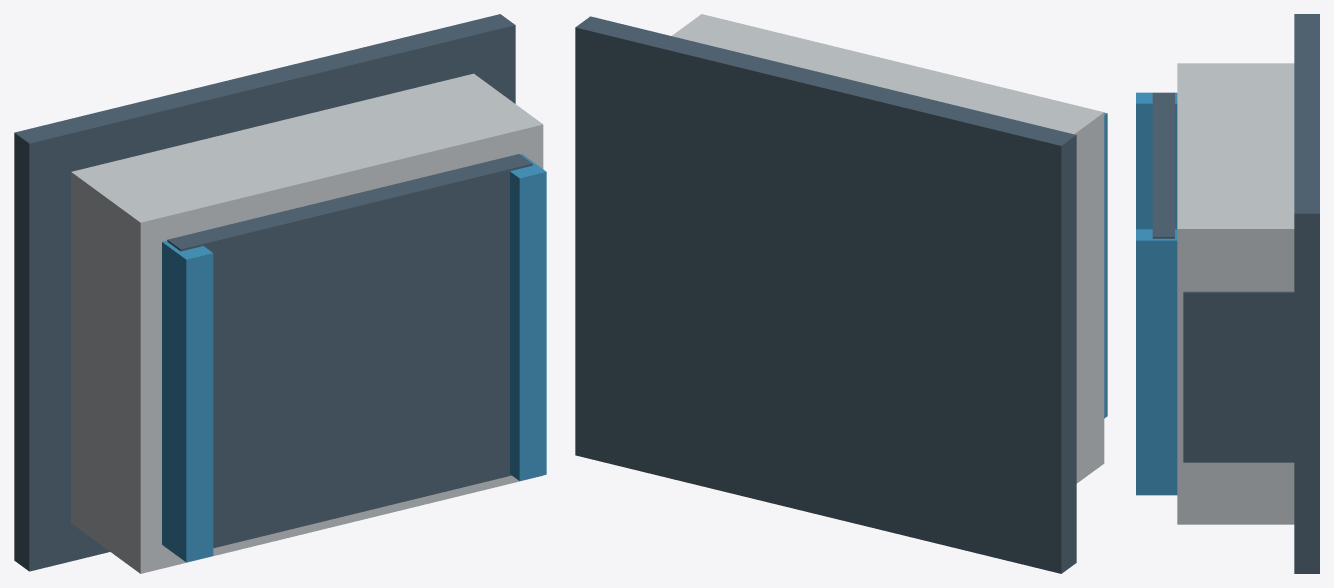
Rendered from b_war_factory.glb.
3 views of the same model, side by side, from view 1: azimuth 30°, elevation 25°; view 2: azimuth 150°, elevation 25°; view 3: azimuth 270°, elevation 25° (orthographic). The views are drawn at different scales.
Parts seen in each view (by area): view 1: roof, main_structure, foundation, support_-2.16, support_2.16; view 2: foundation, main_structure, support_-2.16; view 3: main_structure, factory_door, foundation, support_2.16, roof, support_-2.16.
Boxes of the visible parts, bbox=[...] form: roof: bbox=[167, 154, 532, 548]; main_structure: bbox=[71, 73, 543, 573]; foundation: bbox=[14, 14, 515, 571]; support_-2.16: bbox=[162, 240, 213, 562]; support_2.16: bbox=[510, 154, 546, 480]; foundation: bbox=[575, 16, 1076, 573]; main_structure: bbox=[672, 14, 1104, 483]; support_-2.16: bbox=[1104, 112, 1107, 418]; main_structure: bbox=[1177, 63, 1294, 524]; factory_door: bbox=[1183, 291, 1294, 462]; foundation: bbox=[1294, 14, 1319, 573]; support_2.16: bbox=[1136, 229, 1177, 495]; roof: bbox=[1152, 92, 1174, 238]; support_-2.16: bbox=[1136, 92, 1177, 229].
Size of the model in its own units: 6.3 by 5.3 by 2.45.
